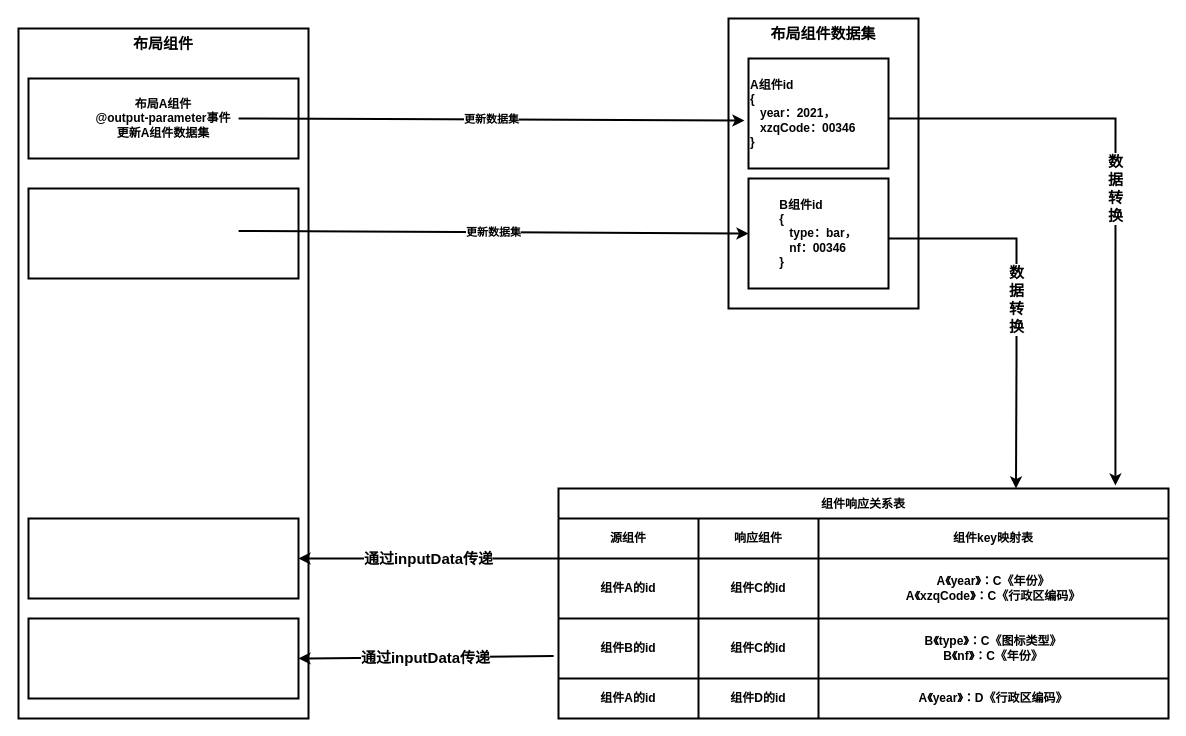
The diagram is 1186 pixels wide and 736 high, and some of its shapes have lost their labels. Each missing label, with the centre of its shape:
"布局B组件 @output-parameter事件 更新A组件数据集" goes at point (163, 233).
"布局C组件" goes at point (163, 558).
"布局D组件" goes at point (163, 658).
